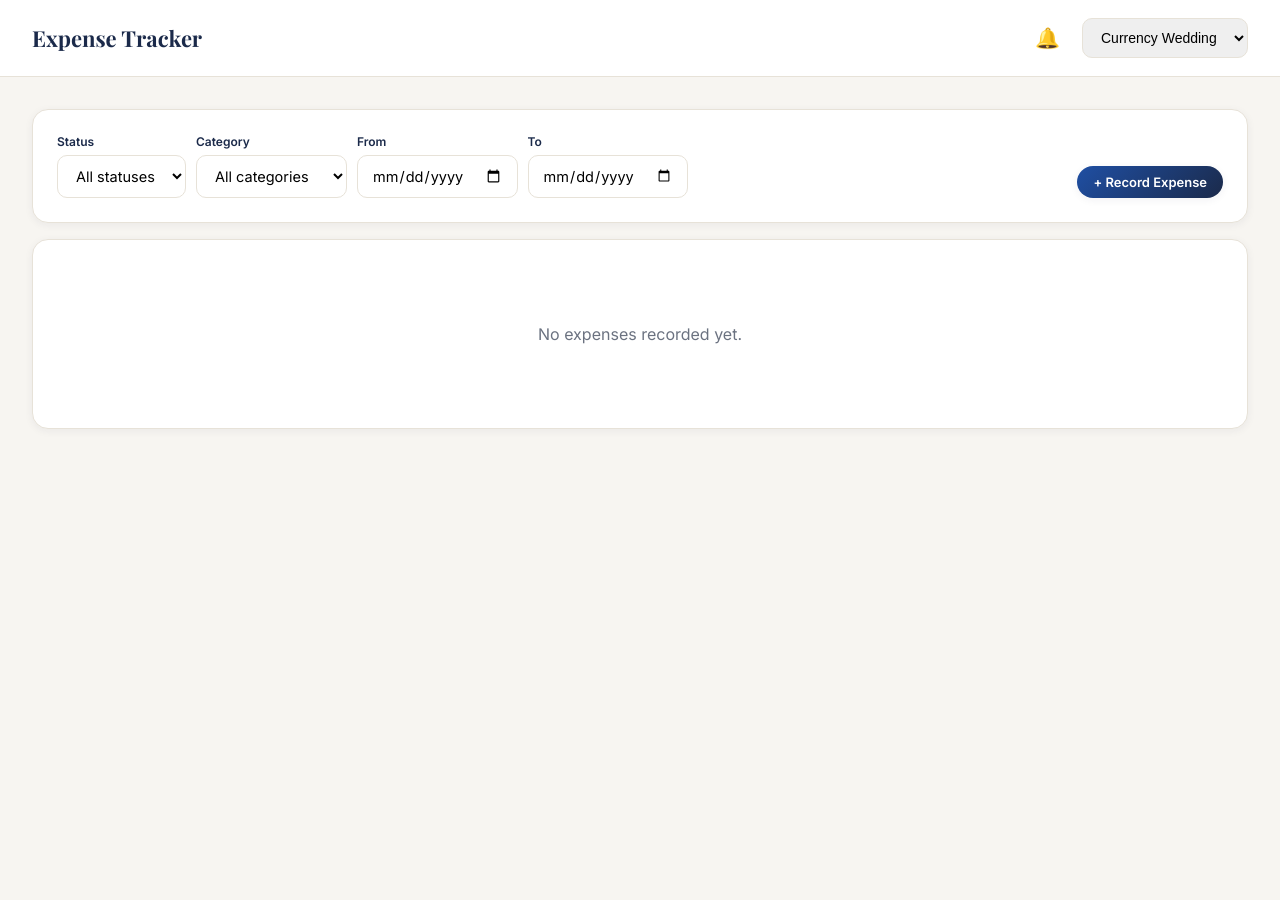
expense multi-currency experience › defaults the create selector to the base currency
Expected: the text "No expenses recorded yet." is shown, [538,324,742,344]
Click the button "+ Record Expense" at (1150, 182), box [1077,166,1223,198]
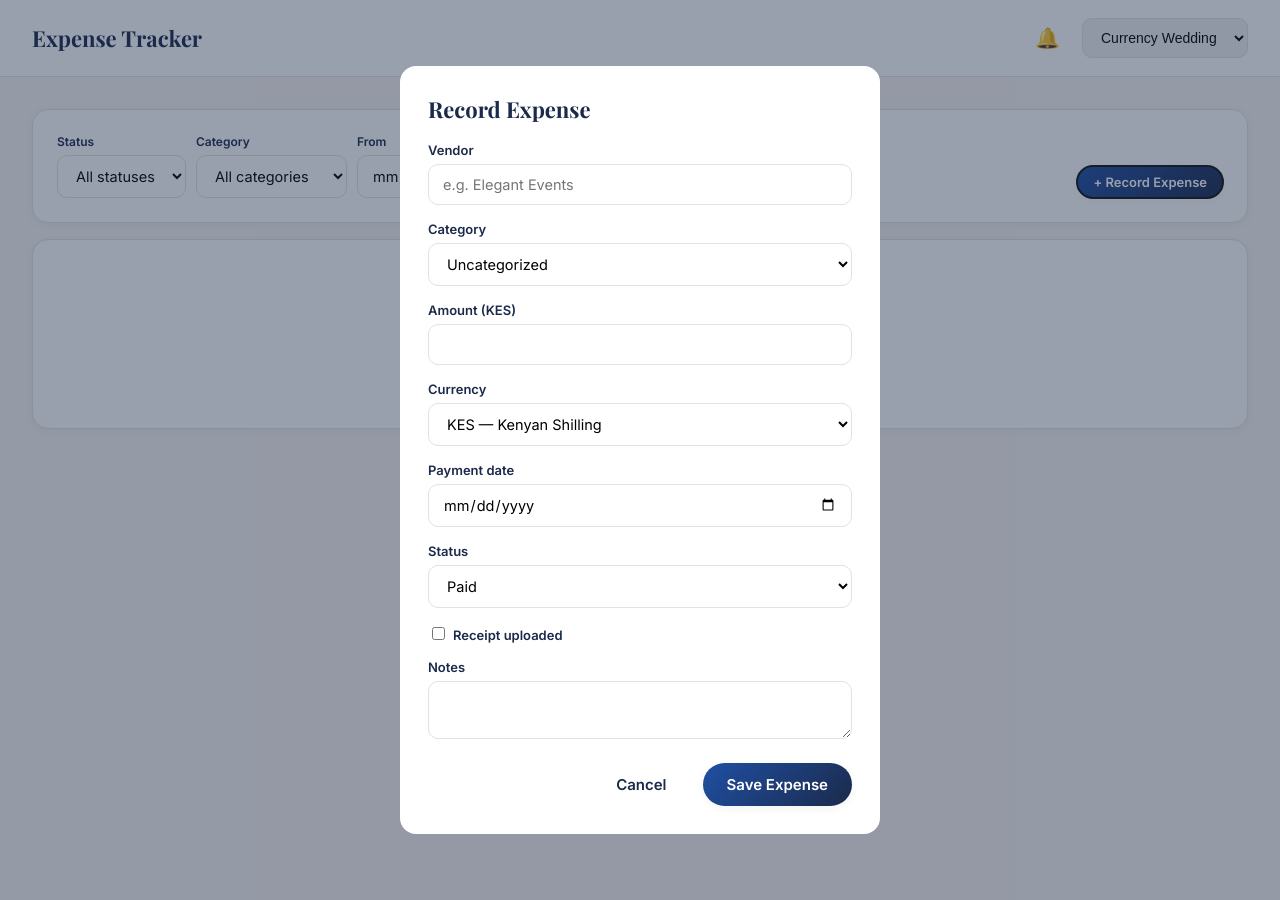
Now the dropdown labelled "Currency" shows "KES — Kenyan Shilling", box [428,403,852,446]
